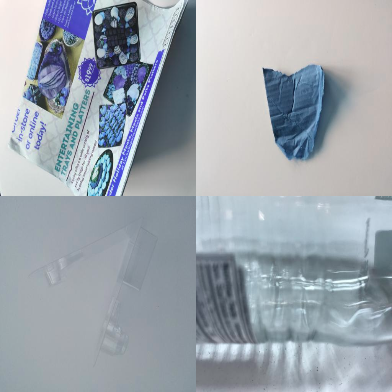cardboard: (261, 64, 327, 161)
paper: (8, 1, 189, 196)
plastic: (196, 196, 392, 347), (26, 215, 159, 367)
